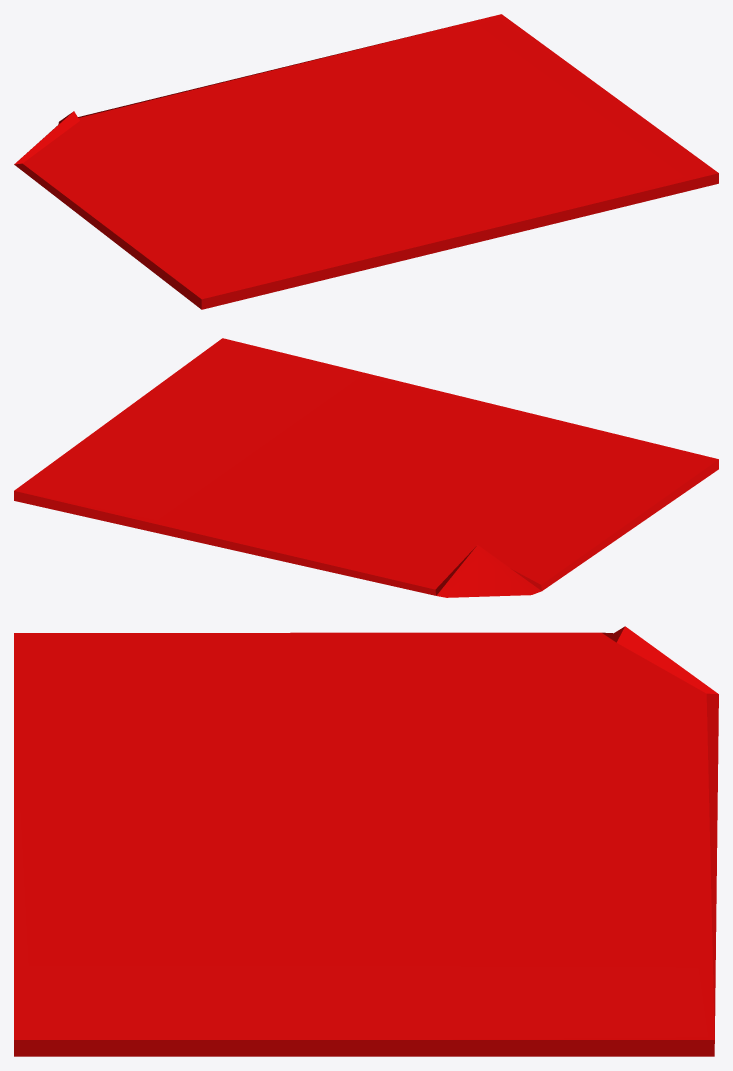
File: Asset_PostCard_01.glb
3 renders of one model, top to bottom at view 1: azimuth 30°, elevation 25°; view 2: azimuth 150°, elevation 25°; view 3: azimuth 270°, elevation 25°, orthographic. The views are drawn at different scales.
Parts seen in each view (by area): view 1: Asset_PostCard_01; view 2: Asset_PostCard_01; view 3: Asset_PostCard_01.
Part boxes in pixels (box(x1,y1,x2,y2)): Asset_PostCard_01: box(14, 14, 718, 309); Asset_PostCard_01: box(14, 338, 718, 597); Asset_PostCard_01: box(14, 626, 718, 1056).
Size of the model in its own units: 19.88 by 1.65 by 14.51.
